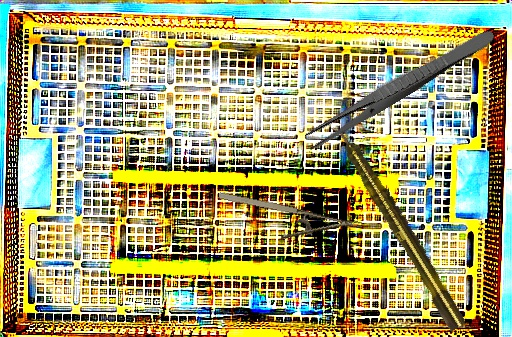Dressing Forceps: (300, 22, 498, 153)
Handpiece: (327, 119, 469, 333)
Needle Holder: (212, 187, 363, 257)
